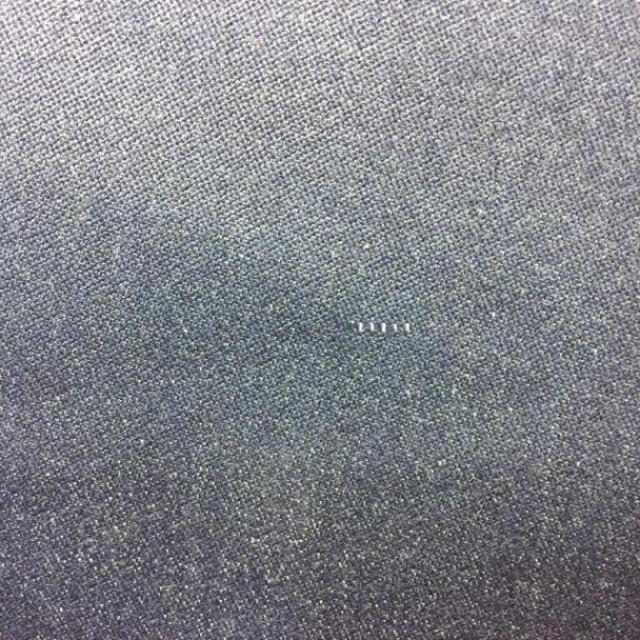Knot: (356, 323, 413, 335)
